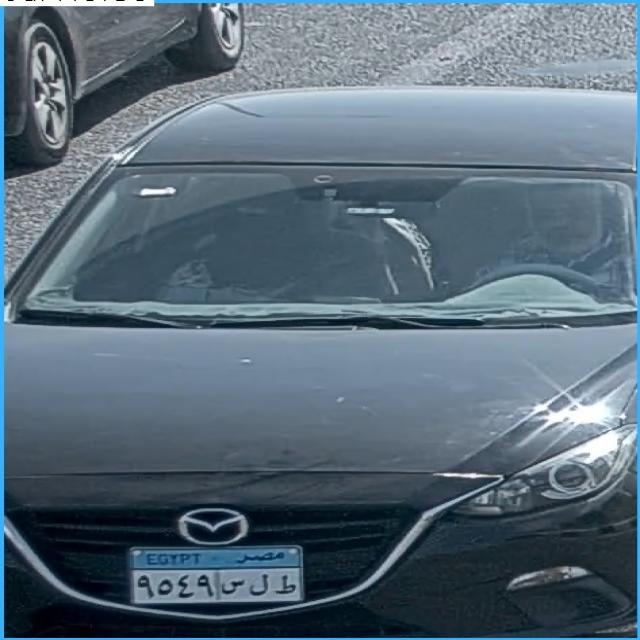windshield: (39, 168, 633, 322)
